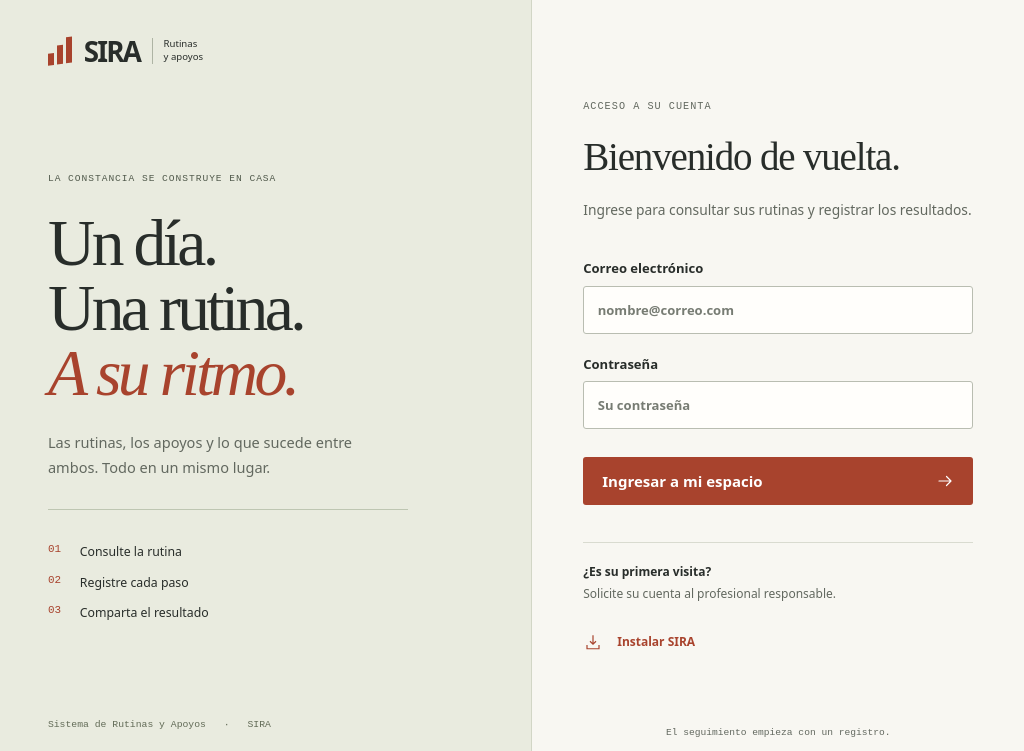
Test: cancelar el ingreso desbloquea los campos e impide abrir una sesión tardía
This screenshot has width=1024, height=751.
Type "laura@example.org" into the field labelled "Correo electrónico".
click(778, 310); type("laura@example.org")  # box [583, 286, 973, 334]
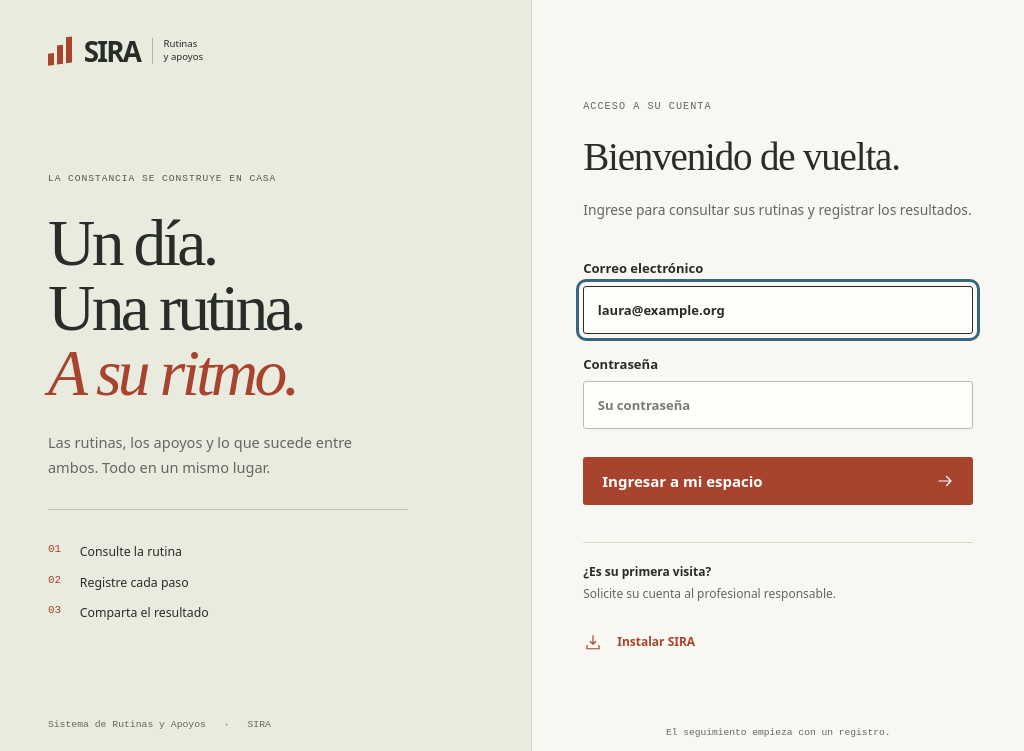
Type "PasswordPrueba2026!" into the password field labelled "Contraseña".
click(778, 405); type("PasswordPrueba2026!")  # box [583, 381, 973, 429]
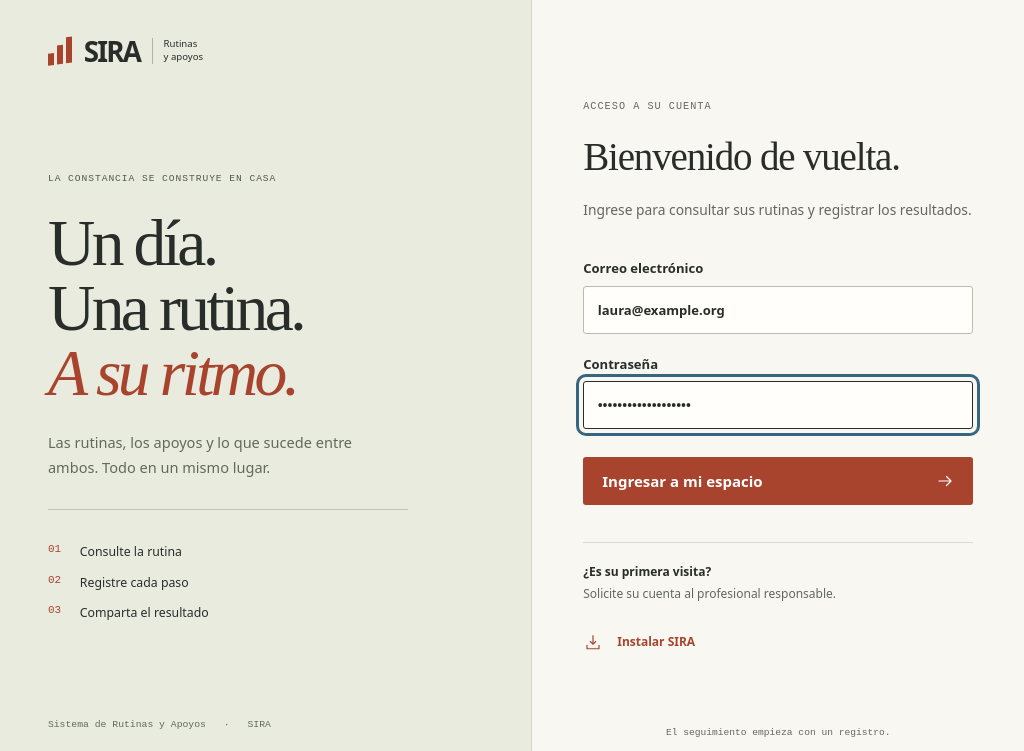
Click the button "Ingresar a mi espacio".
click(682, 481)  # box [583, 457, 973, 505]
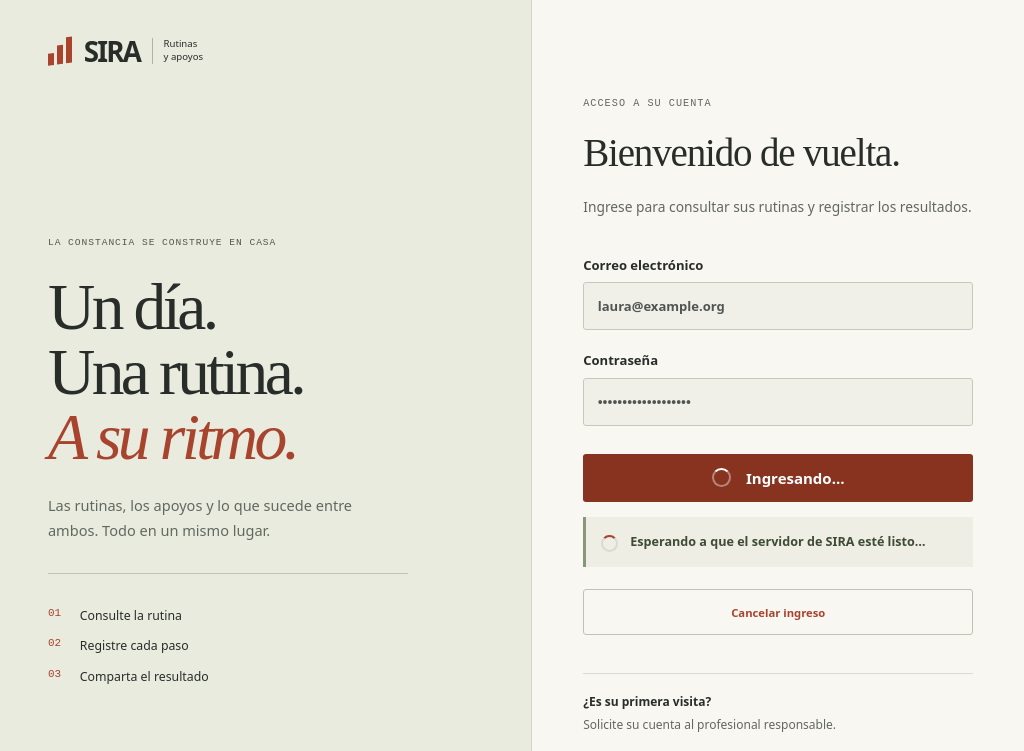
expect the message shows "Esperando a que el servidor": met, box [630, 533, 926, 550]
Click the button "Cancelar ingreso".
click(778, 612)  # box [583, 589, 973, 635]
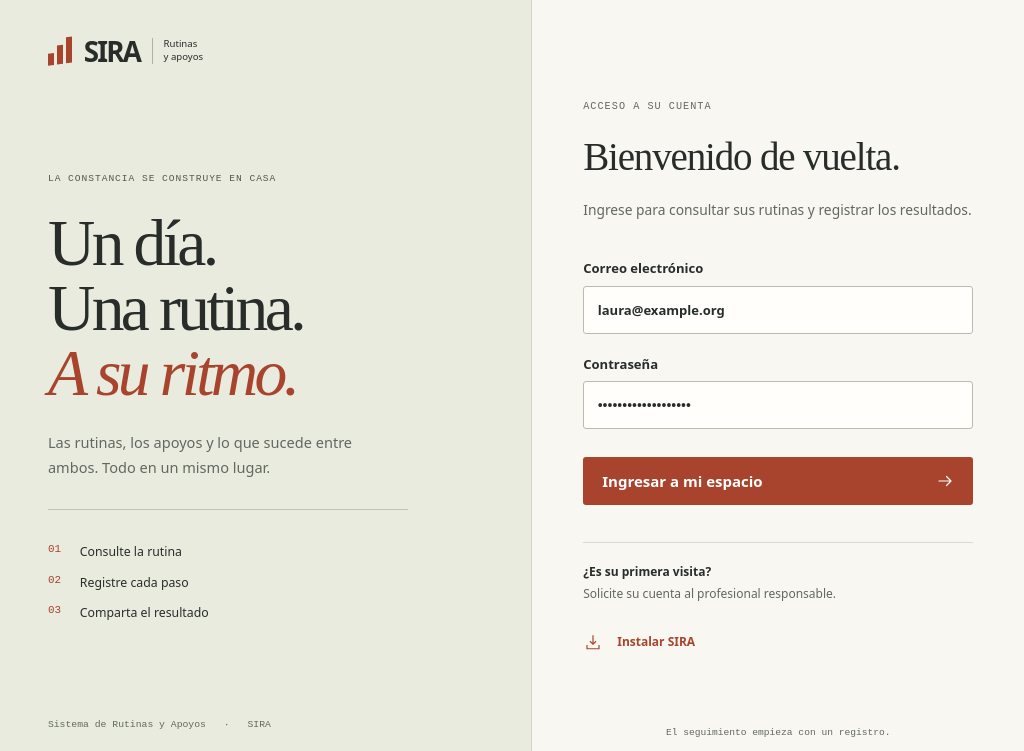
expect the button "Ingresar a mi espacio" is enabled: met, box [583, 457, 973, 505]
expect the message "Esperando a que el servidor de SIRA esté listo…" is gone: met
